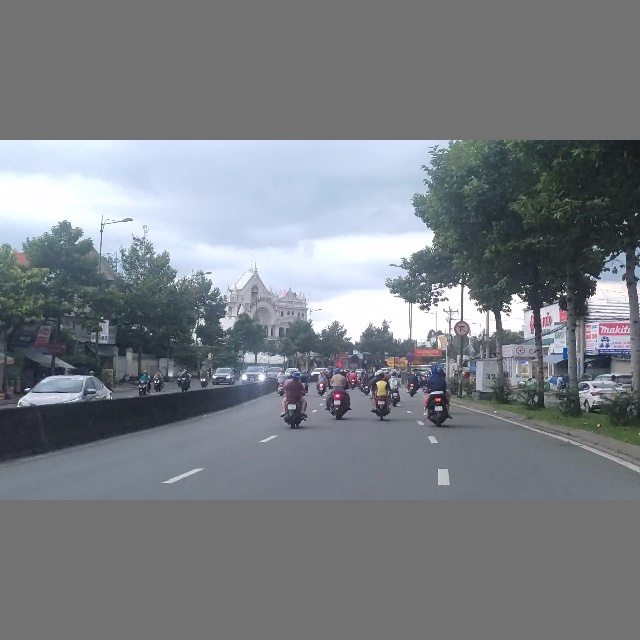P.123b: (454, 321, 470, 337)
